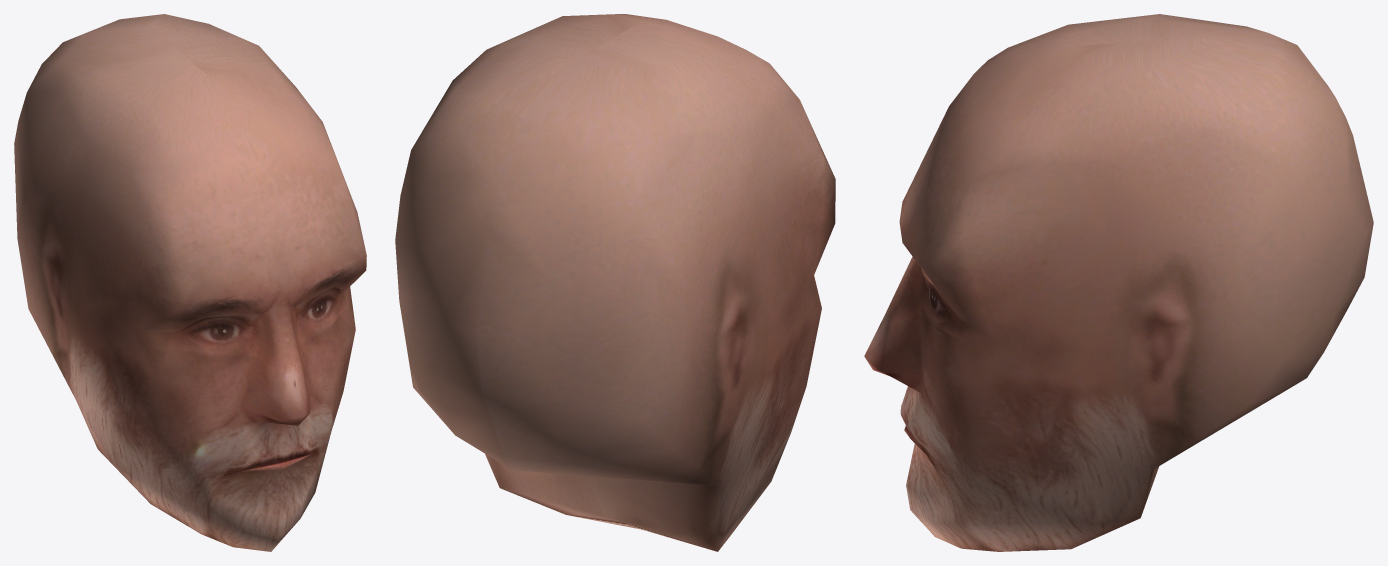
Rendered from B_N_Breton_M_Head_08.glb.
The picture shows the model from 3 angles, left to right: view 1: azimuth 30°, elevation 25°; view 2: azimuth 150°, elevation 25°; view 3: azimuth 270°, elevation 25°; orthographic projection. The views are drawn at different scales.
Visible parts, largest first — view 1: Tri B_N_Breton_M_Head_08; view 2: Tri B_N_Breton_M_Head_08; view 3: Tri B_N_Breton_M_Head_08.
Part boxes in pixels (x1=…): Tri B_N_Breton_M_Head_08: x1=14, y1=14, x2=366, y2=551; Tri B_N_Breton_M_Head_08: x1=395, y1=14, x2=835, y2=551; Tri B_N_Breton_M_Head_08: x1=864, y1=14, x2=1373, y2=551.
Bounding box in the file's own units: 0.0906 × 0.161 × 0.1487.
Materials: 1 (1 with a texture image).
